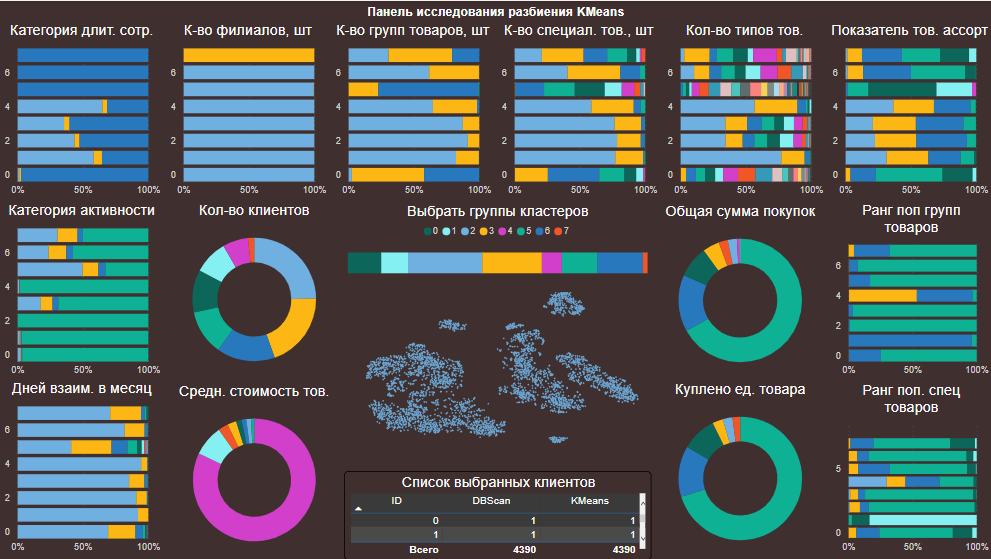

The page's visual inventory and layout, read from the dashboard file:
{"tool":"powerbi","page":{"name":"Интерпритация по KMeans","canvas":[1280,720],"ordinal":2},"visuals":[{"type":"hundredPercentStackedBarChart","title":"К-во групп товаров, шт","fields":{"Category":["Clustering_results.KMeans"],"Y":["CountNonNull(Clustering_results.ID)"],"Series":["Clustering_results.К-во групп покупаемых товаров, шт"]},"box":[426.7,27.5,213.3,232.5],"z":0,"group":"g4"},{"type":"donutChart","title":"Кол-во клиентов","fields":{"Category":["Clustering_results.KMeans"],"Y":["CountNonNull(Clustering_results.ID)"]},"box":[213.8,258.8,230,230],"z":0,"group":"g3"},{"type":"scatterChart","title":"Карта кластеров","fields":{"X":["Sum(2d_mapping.component_1)"],"Y":["Sum(2d_mapping.component_2)"],"Category":["Clustering_results.ID"]},"box":[443.8,361.2,396.2,242.5],"z":0,"group":"g2"},{"type":"textbox","box":[425.7,0,427.1,41.4],"z":500},{"type":"hundredPercentStackedBarChart","title":"Дней взаим. в месяц","fields":{"Category":["Clustering_results.KMeans"],"Y":["CountNonNull(Clustering_results.ID)"],"Series":["Clustering_results.Дней взаимодействия в месяц"]},"box":[0,488.7,213.3,231.3],"z":1000,"group":"g4"},{"type":"tableEx","title":"Список выбранных клиентов","fields":{"Values":["Сводная клиентов.ID","CountNonNull(Clustering_results.DBScan)","CountNonNull(Clustering_results.KMeans)"]},"box":[443.8,605,396.2,115],"z":1000,"group":"g2"},{"type":"hundredPercentStackedBarChart","title":"К-во специал. тов., шт","fields":{"Category":["Clustering_results.KMeans"],"Y":["CountNonNull(Clustering_results.ID)"],"Series":["Clustering_results.К-во специализаций покупаемых товаров, шт"]},"box":[640,27.5,213.3,232.5],"z":2000,"group":"g4"},{"type":"hundredPercentStackedBarChart","title":"Выбрать группы кластеров","fields":{"Y":["CountNonNull(Clustering_results.ID)"],"Series":["Clustering_results.KMeans"]},"box":[443.8,260,396.2,101.2],"z":2000,"group":"g2"},{"type":"donutChart","title":"Общая сумма покупок","fields":{"Category":["Clustering_results.KMeans"],"Y":["Sum(Сводная клиентов.Сумма покупок за все время, руб)"]},"box":[840,260,230,230],"z":2000,"group":"g3"},{"type":"hundredPercentStackedBarChart","title":"Категория активности","fields":{"Category":["Clustering_results.KMeans"],"Y":["CountNonNull(Clustering_results.ID)"],"Series":["Сводная клиентов.Категория активности клиента"]},"box":[0,258.8,213.3,232.5],"z":3000,"group":"g4"},{"type":"donutChart","title":"Средн. стоимость тов.","fields":{"Category":["Clustering_results.KMeans"],"Y":["Avg(Сводная клиентов.Средняя стоимость товара, руб)"]},"box":[213.8,491.3,230,228.8],"z":3000,"group":"g3"},{"type":"hundredPercentStackedBarChart","title":"Кол-во типов тов.","fields":{"Category":["Clustering_results.KMeans"],"Y":["CountNonNull(Clustering_results.ID)"],"Series":["Clustering_results.Кол-во типов покупаемых товаров, шт"]},"box":[853.3,27.5,213.3,232.5],"z":4000,"group":"g4"},{"type":"donutChart","title":"Куплено ед. товара","fields":{"Category":["Clustering_results.KMeans"],"Y":["Sum(Сводная клиентов.Общее к-во покупок за все время, шт)"]},"box":[840,488.8,230,230],"z":4000,"group":"g3"},{"type":"hundredPercentStackedBarChart","title":"Категория длит.  сотр.","fields":{"Category":["Clustering_results.KMeans"],"Y":["CountNonNull(Clustering_results.ID)"],"Series":["Сводная клиентов.Показатель количества загазов"]},"box":[0,27.5,213.3,232.5],"z":5000,"group":"g4"},{"type":"group","id":"g1","title":"Группа 3","box":[0,27.5,1280,692.5],"z":6000},{"type":"hundredPercentStackedBarChart","title":"Показатель тов. ассорт","fields":{"Category":["Clustering_results.KMeans"],"Y":["CountNonNull(Clustering_results.ID)"],"Series":["Clustering_results.Товарный ассортимент, шт"]},"box":[1066.7,27.5,213.3,232.5],"z":6000,"group":"g4"},{"type":"hundredPercentStackedBarChart","title":"К-во филиалов, шт","fields":{"Category":["Clustering_results.KMeans"],"Y":["CountNonNull(Clustering_results.ID)"],"Series":["Clustering_results.К-во филиалов, шт"]},"box":[213.3,27.5,213.3,232.5],"z":7000,"group":"g4"},{"type":"group","id":"g2","title":"Группа 2","box":[443.8,260,396.2,460],"z":7002,"group":"g3"},{"type":"group","id":"g3","title":"Группа 4","box":[213.8,258.8,856.2,461.2],"z":7003},{"type":"hundredPercentStackedBarChart","title":"Ранг поп групп товаров","fields":{"Category":["Clustering_results.KMeans"],"Series":["Clustering_results.Ранг популярности групп товаров"],"Y":["CountNonNull(Clustering_results.ID)"]},"box":[1070,258.7,210,232.5],"z":10000,"group":"g1"},{"type":"group","id":"g4","title":"Группа 1","box":[0,27.5,1280,692.5],"z":11000,"group":"g1"},{"type":"hundredPercentStackedBarChart","title":"Ранг поп. спец товаров","fields":{"Category":["Clustering_results.KMeans"],"Y":["CountNonNull(Clustering_results.ID)"],"Series":["Clustering_results.Ранг популярности спец товаров"]},"box":[1070,491.3,210,228.8],"z":12000,"group":"g1"}]}

Visuals, with their boxes in screenshot pixels (x1, y1, x2, y2), scaled from the page's 1280x720 canvas onto the 991x559 screenshot:
"К-во групп товаров, шт" hundredPercentStackedBarChart: detection(330, 21, 496, 202)
"Кол-во клиентов" donutChart: detection(166, 201, 344, 379)
"Карта кластеров" scatterChart: detection(344, 280, 650, 469)
textbox: detection(330, 0, 660, 32)
"Дней взаим. в месяц" hundredPercentStackedBarChart: detection(0, 379, 165, 558)
"Список выбранных клиентов" tableEx: detection(344, 470, 650, 558)
"К-во специал. тов., шт" hundredPercentStackedBarChart: detection(496, 21, 661, 202)
"Выбрать группы кластеров" hundredPercentStackedBarChart: detection(344, 202, 650, 280)
"Общая сумма покупок" donutChart: detection(650, 202, 828, 380)
"Категория активности" hundredPercentStackedBarChart: detection(0, 201, 165, 381)
"Средн. стоимость тов." donutChart: detection(166, 381, 344, 558)
"Кол-во типов тов." hundredPercentStackedBarChart: detection(661, 21, 826, 202)
"Куплено ед. товара" donutChart: detection(650, 379, 828, 558)
"Категория длит.  сотр." hundredPercentStackedBarChart: detection(0, 21, 165, 202)
"Группа 3" group: detection(0, 21, 990, 558)
"Показатель тов. ассорт" hundredPercentStackedBarChart: detection(826, 21, 990, 202)
"К-во филиалов, шт" hundredPercentStackedBarChart: detection(165, 21, 330, 202)
"Группа 2" group: detection(344, 202, 650, 558)
"Группа 4" group: detection(166, 201, 828, 558)
"Ранг поп групп товаров" hundredPercentStackedBarChart: detection(828, 201, 990, 381)
"Группа 1" group: detection(0, 21, 990, 558)
"Ранг поп. спец товаров" hundredPercentStackedBarChart: detection(828, 381, 990, 558)
